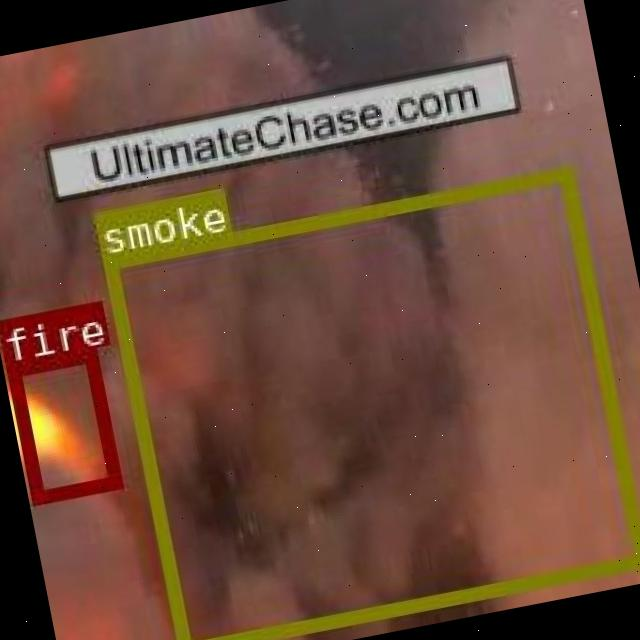fire: (4, 346, 120, 504)
smoke: (102, 167, 640, 640)
